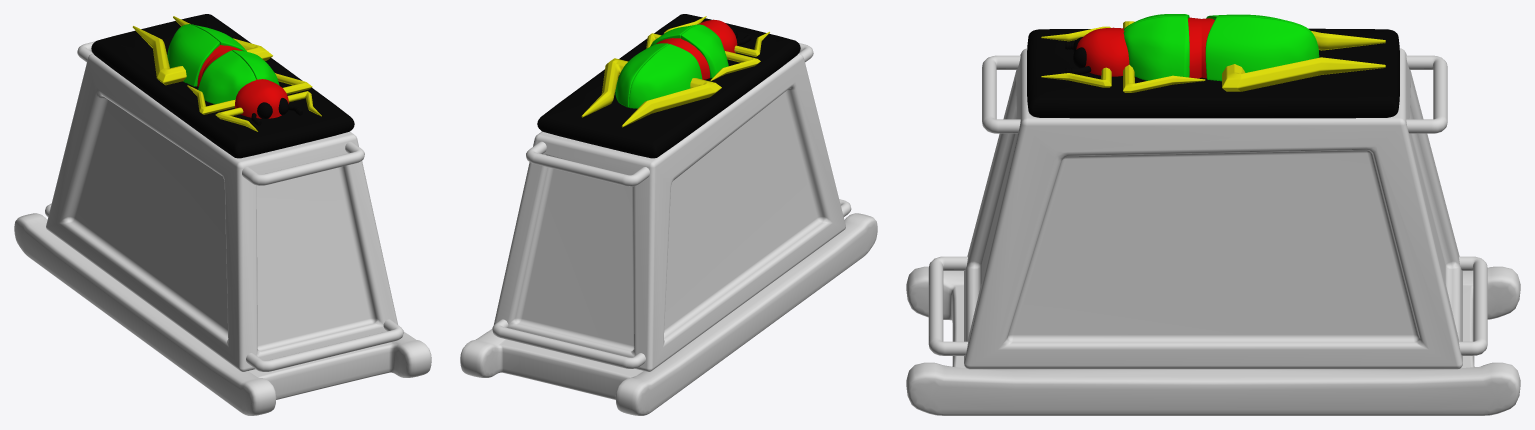
Rendered from Treasure_Cove.fbx.
3 views of the same model, side by side, from view 1: azimuth 30°, elevation 25°; view 2: azimuth 150°, elevation 25°; view 3: azimuth 270°, elevation 25° (orthographic). The views are drawn at different scales.
Visible parts, largest first — view 1: Treasure_Body, Treasure_Lid; view 2: Treasure_Body, Treasure_Lid; view 3: Treasure_Body, Treasure_Lid.
Part boxes in pixels (x1,y1,x2,y2): Treasure_Body: (14,41,431,415); Treasure_Lid: (91,14,354,158); Treasure_Body: (460,43,877,415); Treasure_Lid: (537,14,800,158); Treasure_Body: (906,48,1520,415); Treasure_Lid: (1027,14,1399,118).
Size of the model in its own units: 85.11 by 124 by 199.
